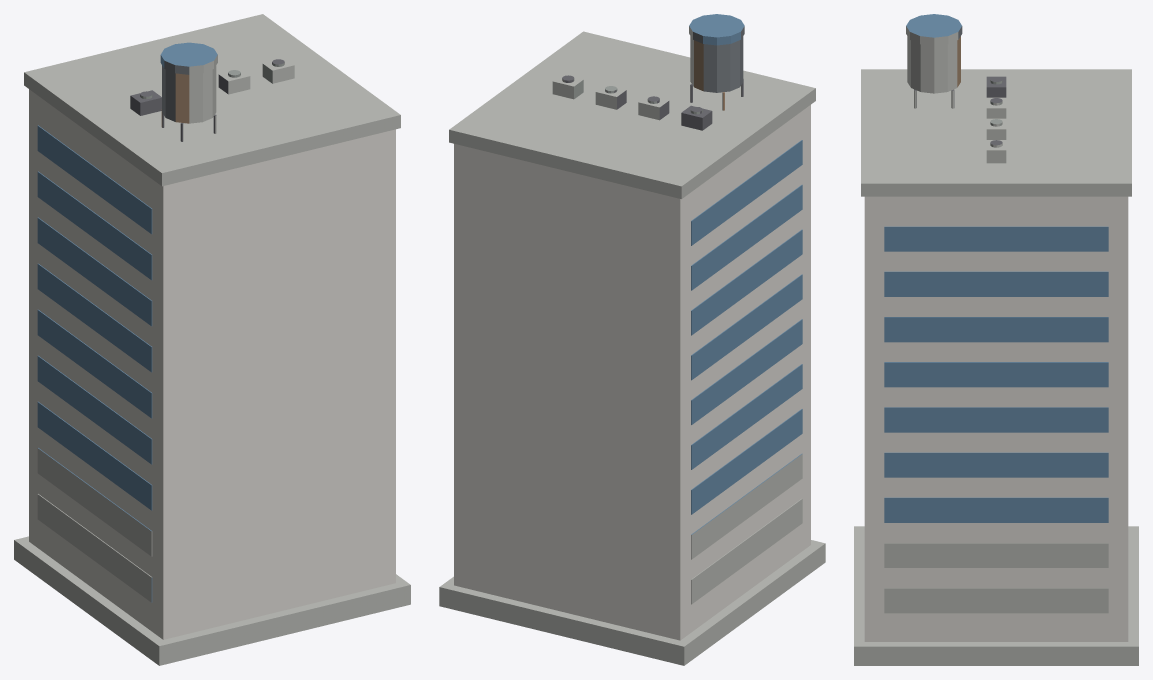
Rendered from residential_tower_10s.glb.
3 renders of one model, left to right at view 1: azimuth 30°, elevation 25°; view 2: azimuth 150°, elevation 25°; view 3: azimuth 270°, elevation 25°, orthographic. The views are drawn at different scales.
Visible parts, largest first — view 1: residential_tower_10s; view 2: residential_tower_10s; view 3: residential_tower_10s.
Part boxes in pixels (x1,y1,x2,y2): residential_tower_10s: (14, 14, 410, 665); residential_tower_10s: (439, 14, 825, 665); residential_tower_10s: (854, 14, 1138, 665).
Bounding box in the file's own units: 16 × 34.3 × 16.
